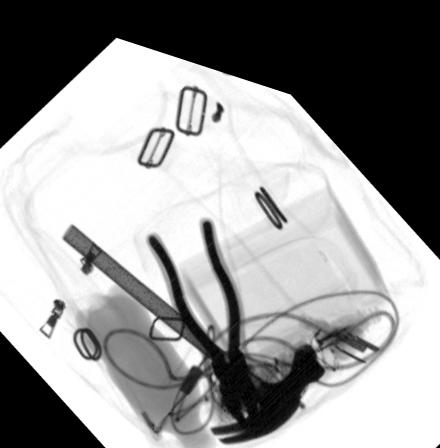Hammer: (61, 218, 324, 428)
Pliers: (143, 202, 259, 417)
